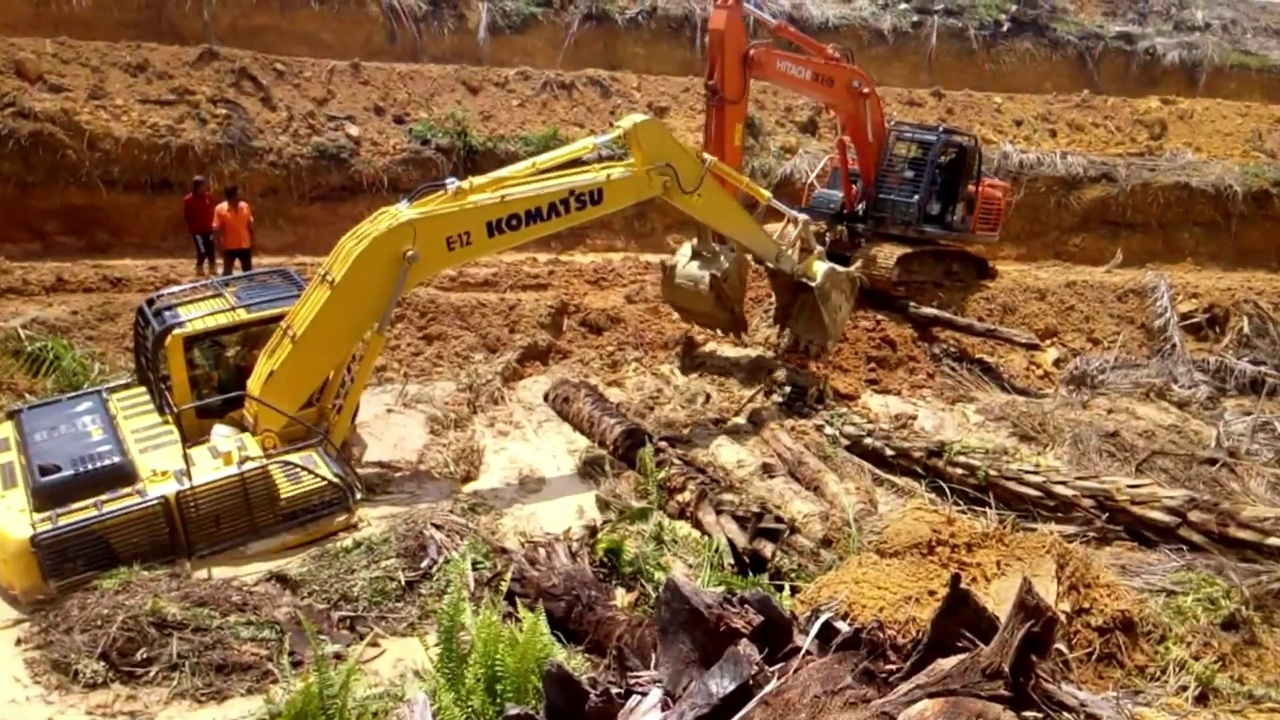excavator: (2, 112, 860, 622), (634, 1, 1014, 353)
person: (218, 183, 256, 275), (181, 174, 214, 277)
